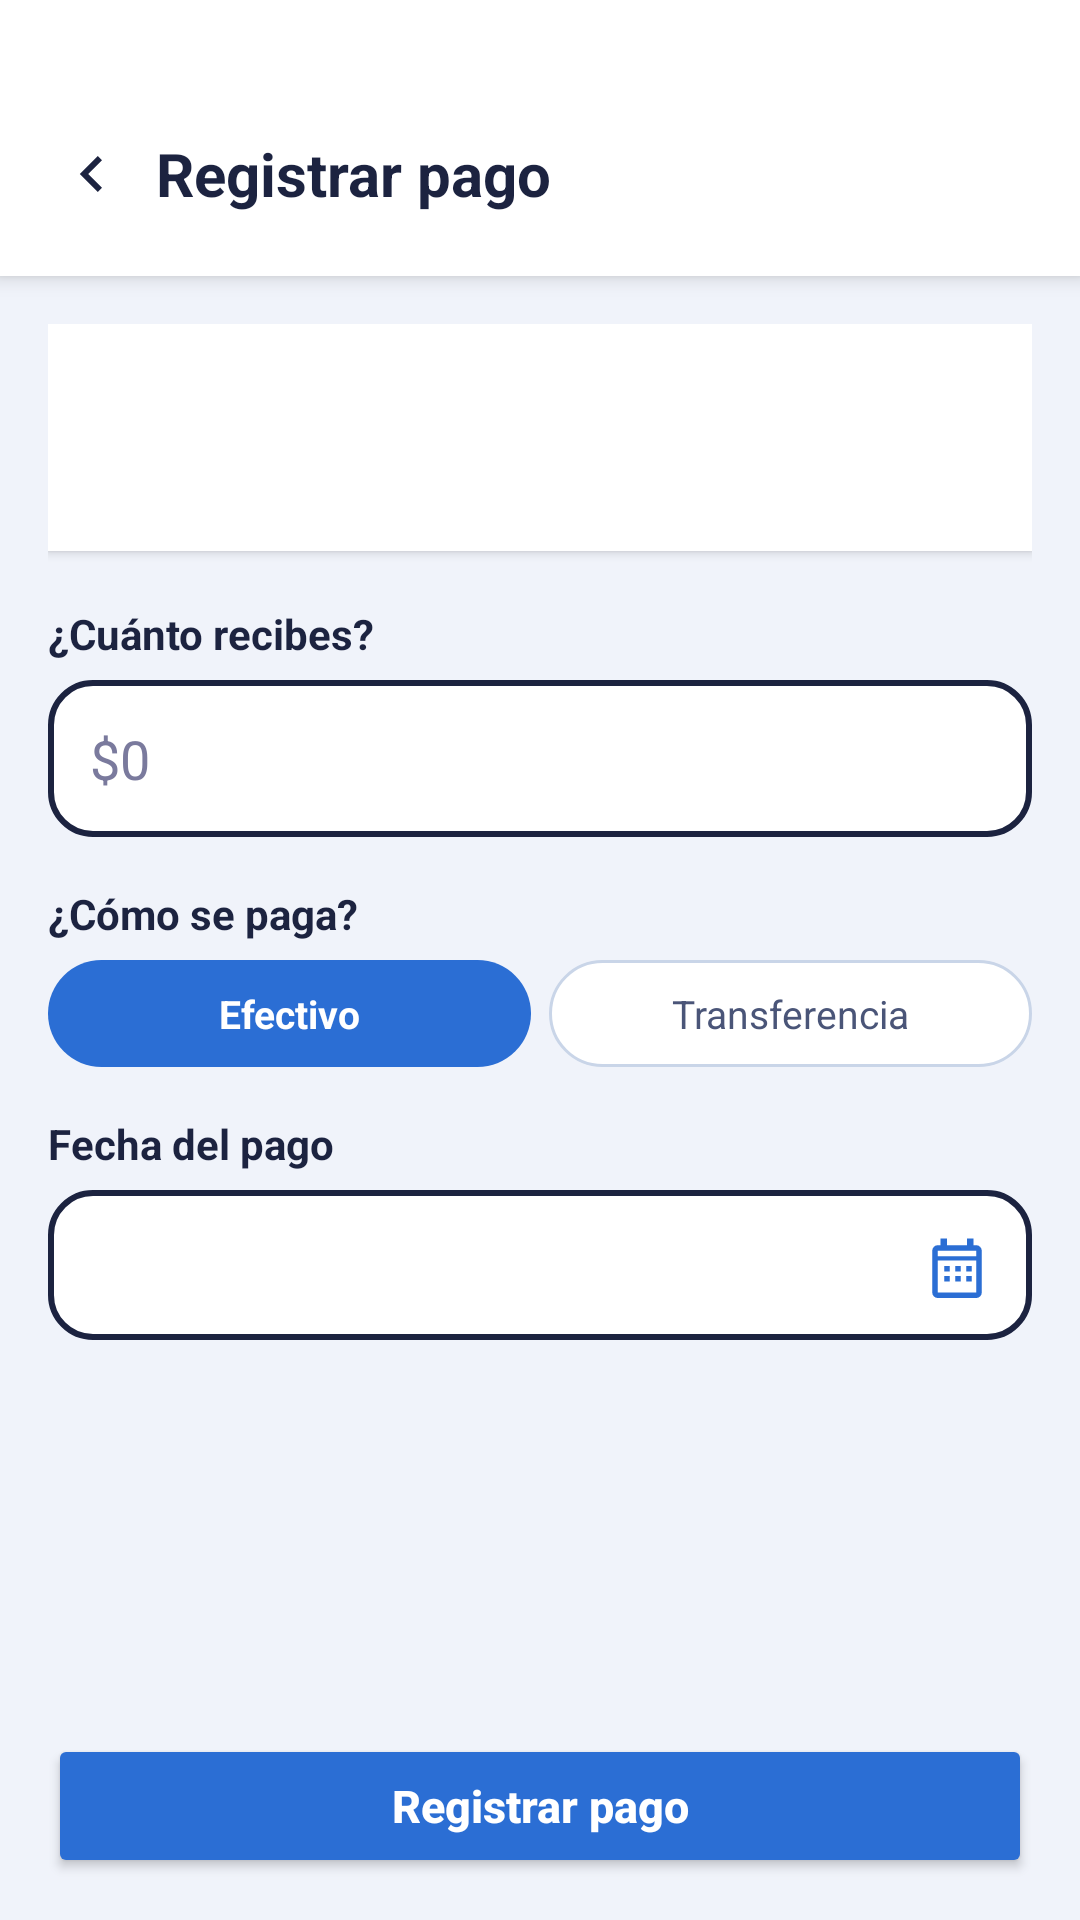

Named icons in this screenshot (1080 x 1920) and their centers, [x,y]:
calendar: [957,1268]
